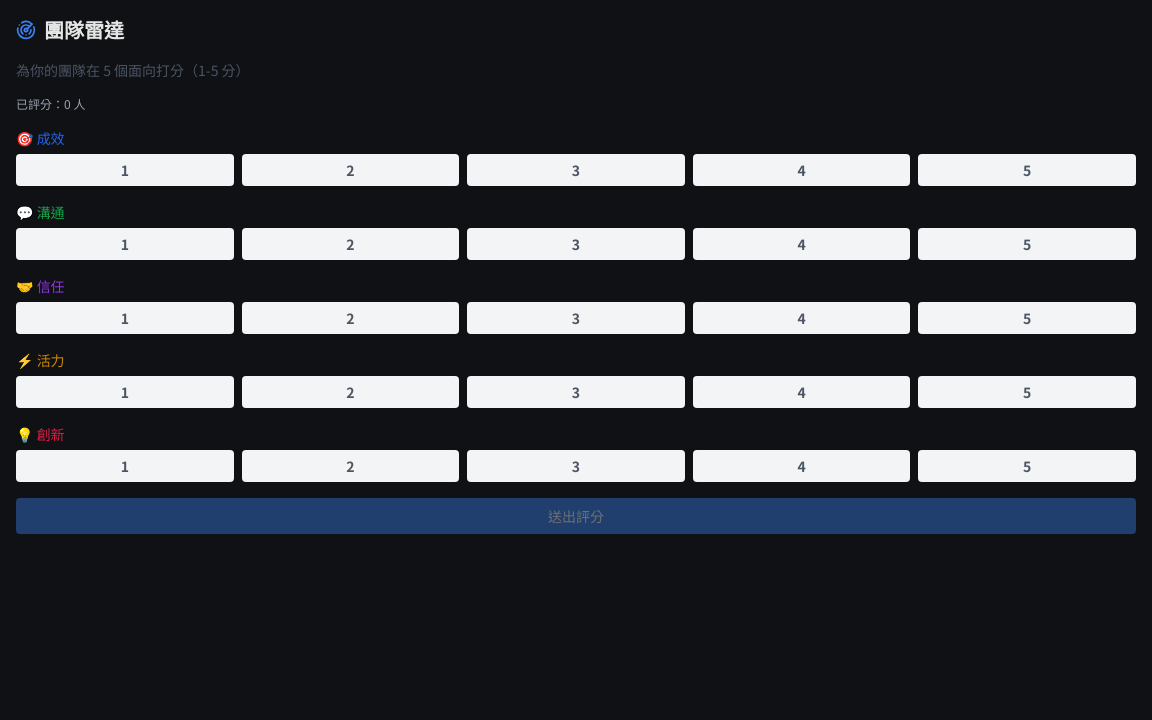
it: TeamRadar › 全部評分後可提交
Click the button with test id "tr-score-effectiveness-4": click(802, 170) [693,154,910,186]
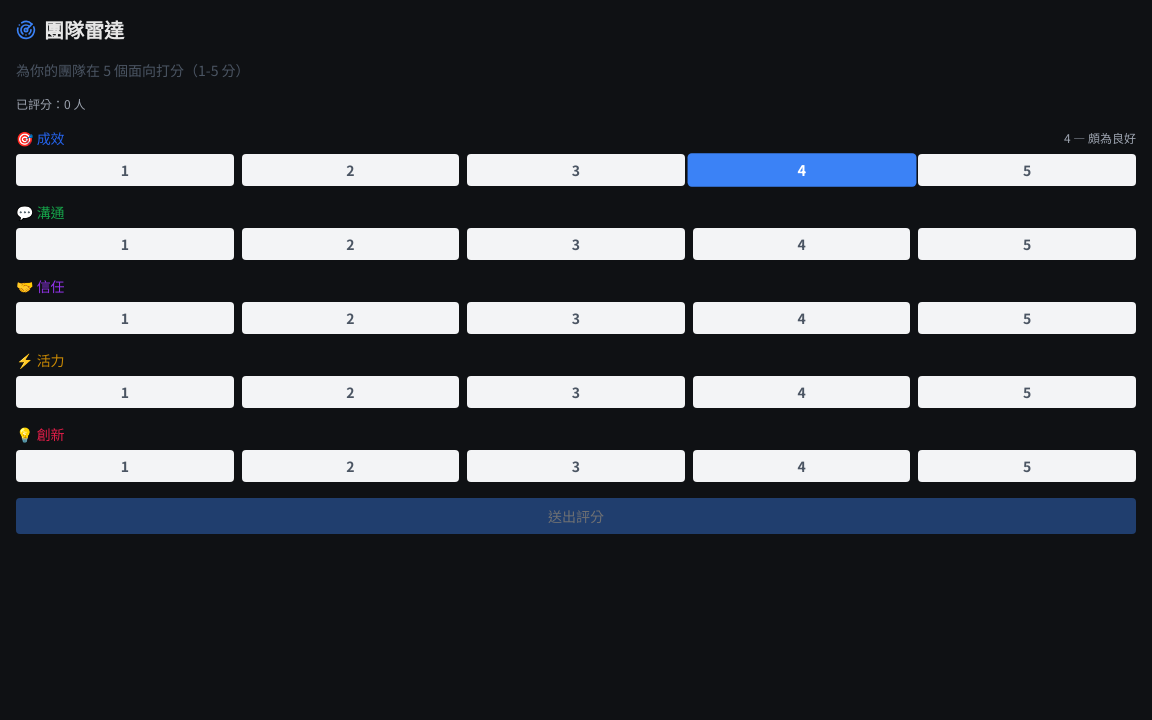
Click the button with test id "tr-score-communication-3": click(576, 244) [467,228,685,260]
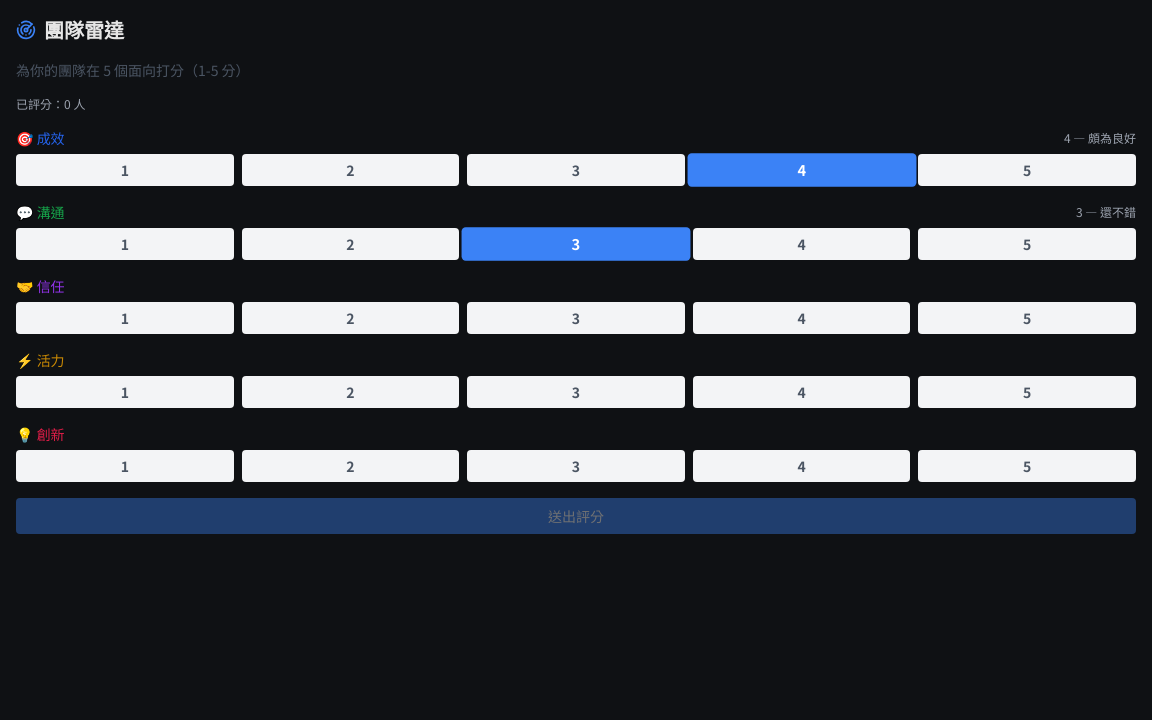
Click the button with test id "tr-score-trust-5": click(1027, 318) [918,302,1136,334]
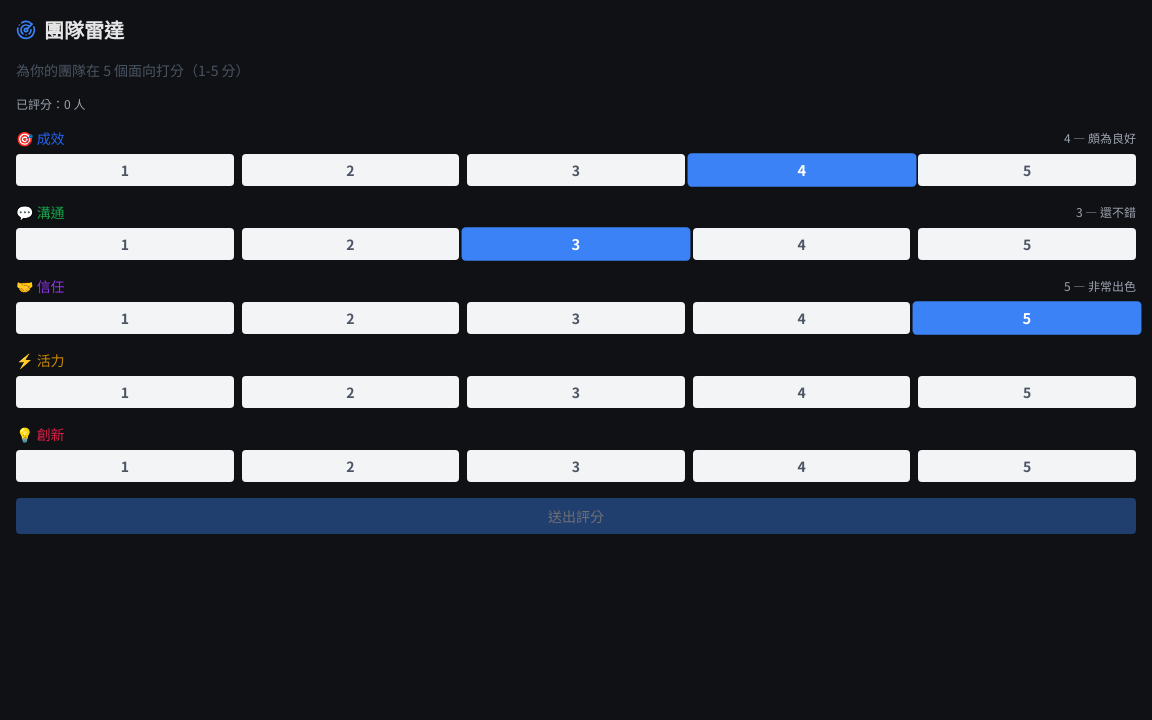
Click the button with test id "tr-score-energy-2": click(350, 392) [242,376,459,408]
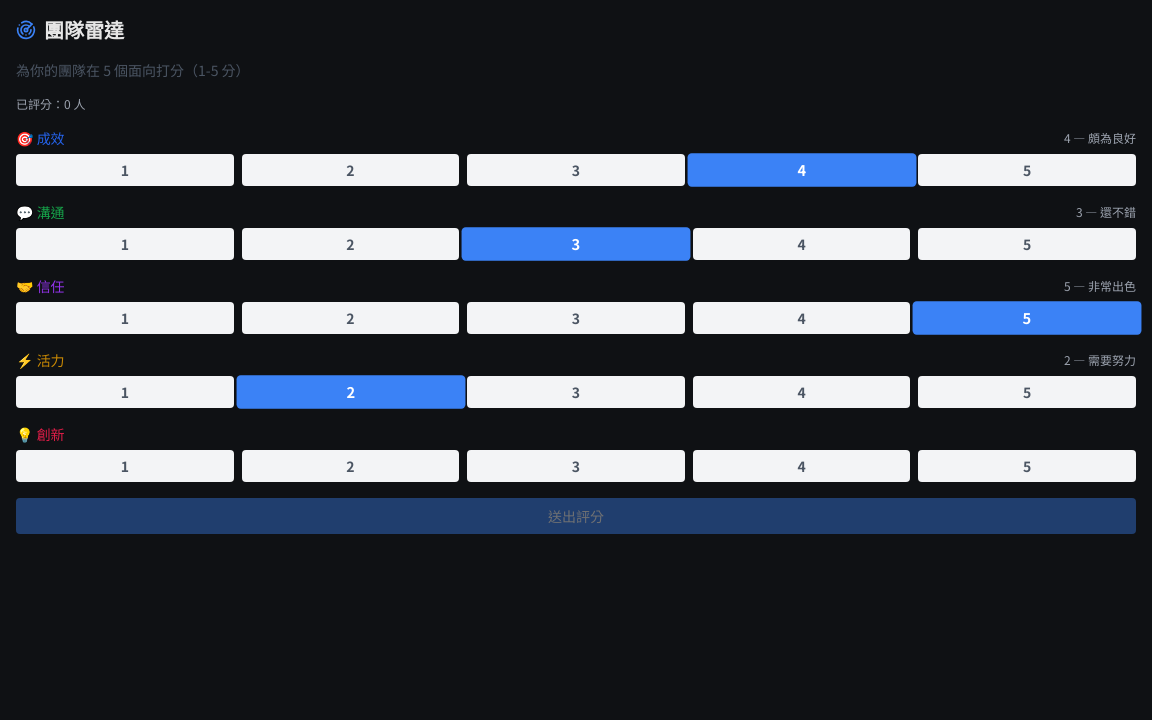
Click the button with test id "tr-score-innovation-4": click(802, 466) [693,450,910,482]
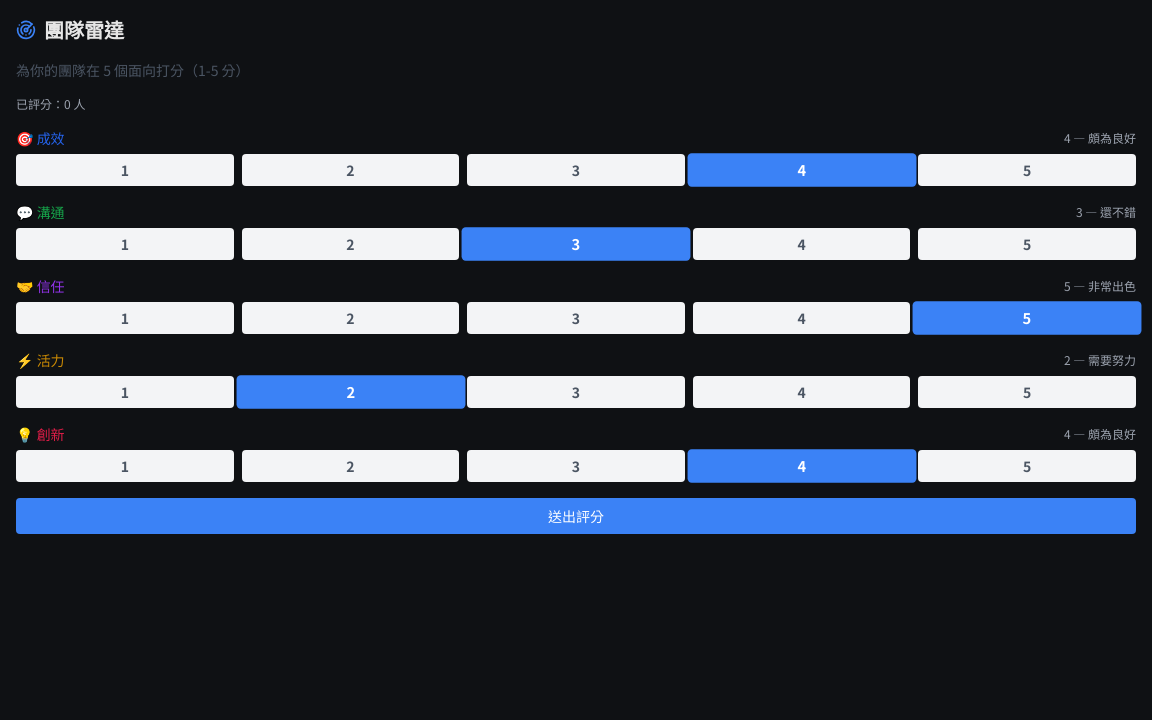
Check: the button with test id "tr-submit-btn" is enabled, box [16,498,1136,534]
